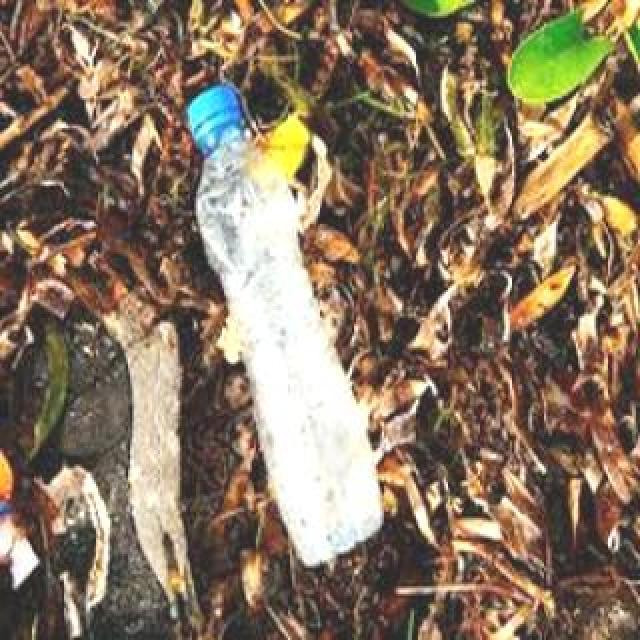Pet_Bottle: (185, 79, 389, 569)
